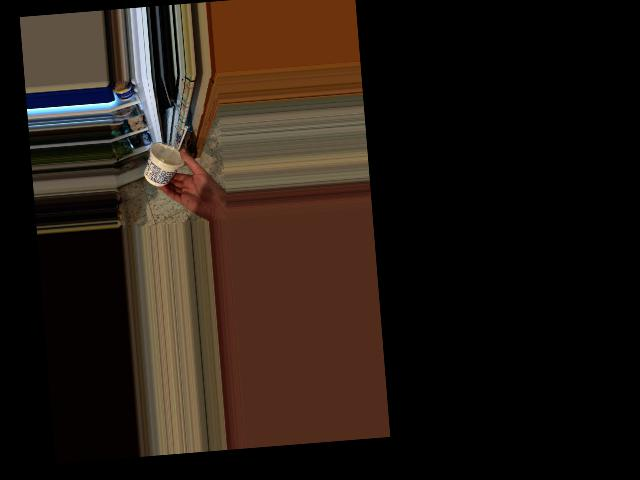cotage: (143, 139, 183, 184)
